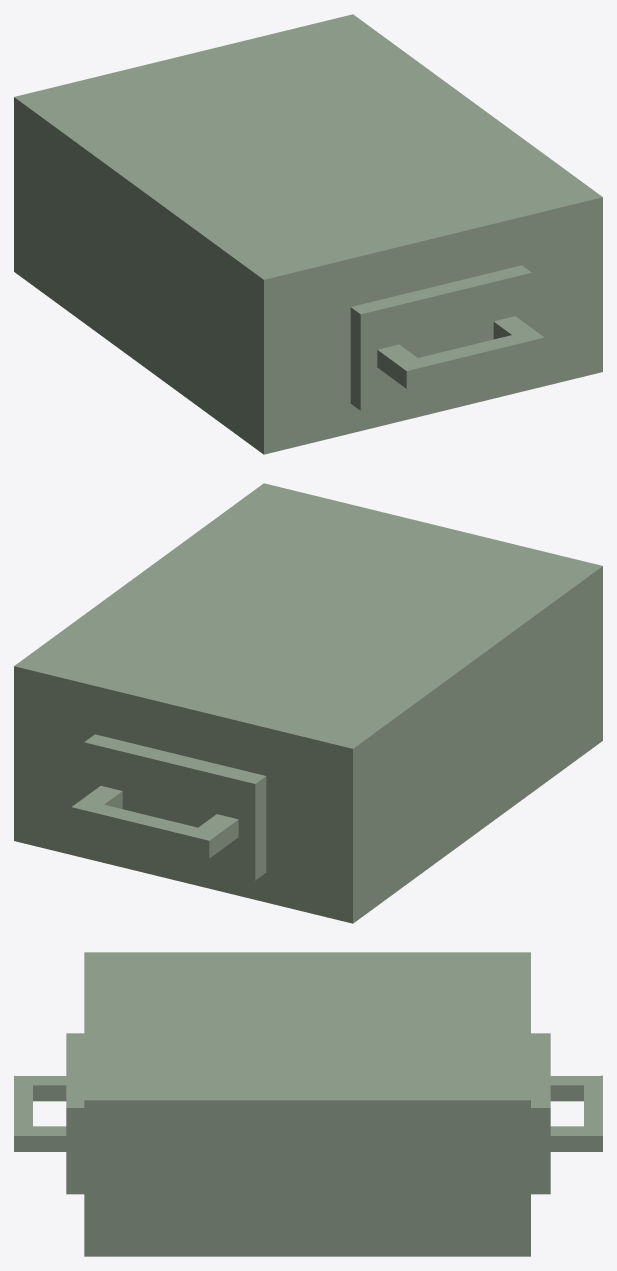
The model's file is metal_box_02.fbx.
The picture shows the model from 3 angles, top to bottom: view 1: azimuth 30°, elevation 25°; view 2: azimuth 150°, elevation 25°; view 3: azimuth 270°, elevation 25°; orthographic projection. The views are drawn at different scales.
Visible parts, largest first — view 1: metal_box_02; view 2: metal_box_02; view 3: metal_box_02.
Boxes of the visible parts, x1,y1,x2,y2 form: metal_box_02: (14,14,602,454); metal_box_02: (14,483,602,923); metal_box_02: (14,952,602,1256).
Bounding box in the file's own units: 0.969 × 0.4774 × 1.63.
